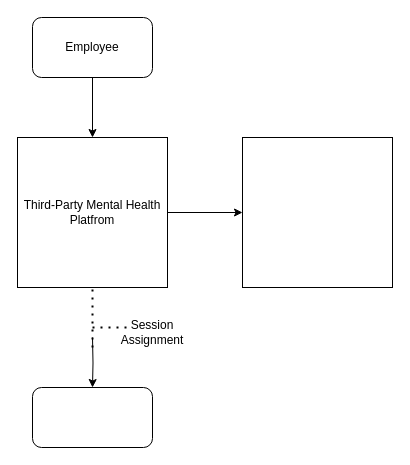
This 410x465 diagram has some shape labels left out. The centre of each missing label's shape, as x and y in pixels:
HR Department(Summary Report): (317,212)
Pyschologist: (92,417)
